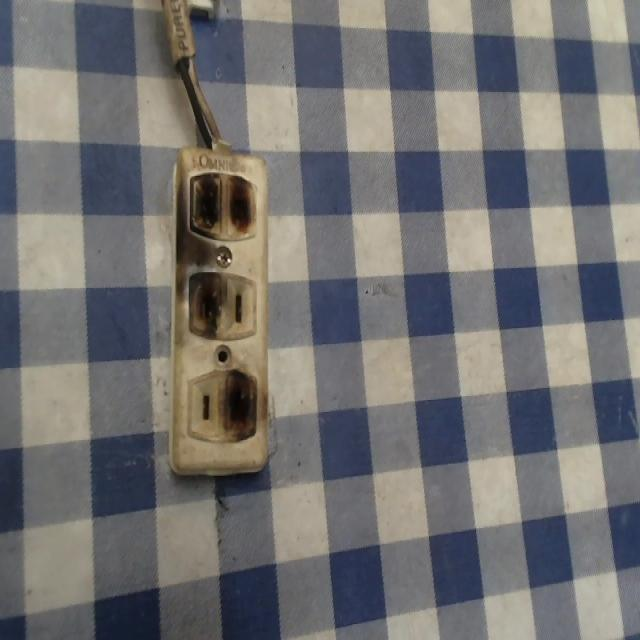-: (187, 166, 258, 242), (216, 364, 259, 448), (183, 265, 228, 336)
